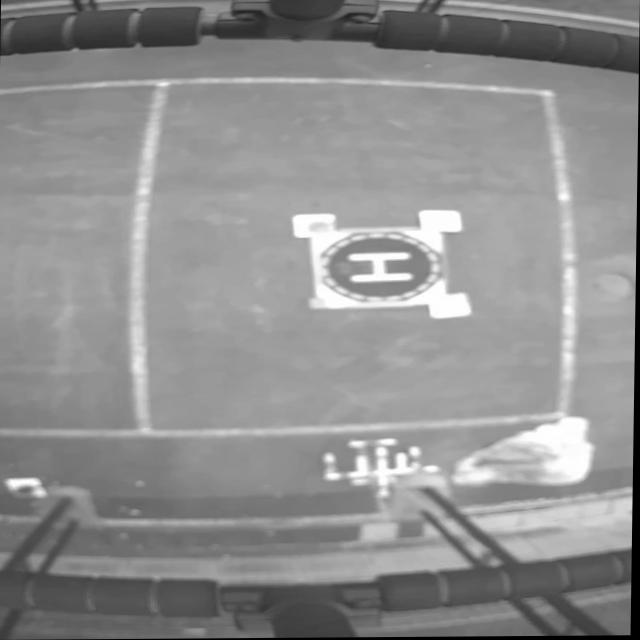Helipad: (348, 253, 414, 284)
